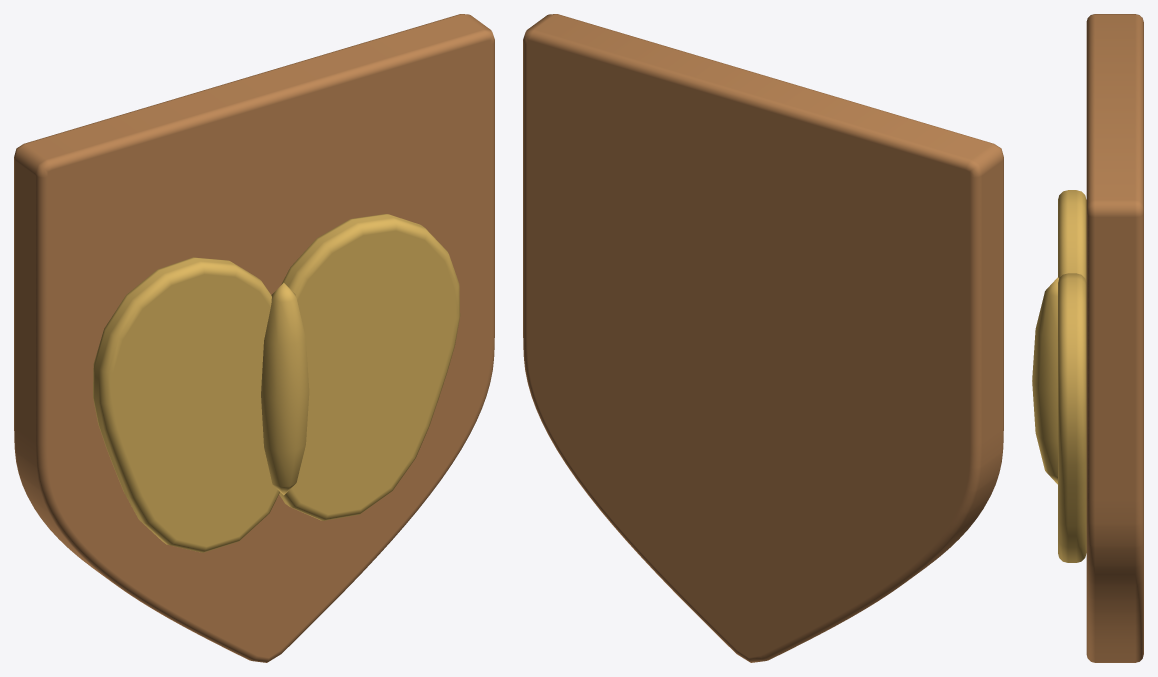
The model's file is butterfly_plaque.glb.
The picture shows the model from 3 angles, left to right: view 1: azimuth 30°, elevation 25°; view 2: azimuth 150°, elevation 25°; view 3: azimuth 270°, elevation 25°; orthographic projection. The views are drawn at different scales.
Parts seen in each view (by area): view 1: butterfly_plaque_mesh; view 2: butterfly_plaque_mesh; view 3: butterfly_plaque_mesh.
Part boxes in pixels (<box>): butterfly_plaque_mesh: <box>14,14,494,662</box>; butterfly_plaque_mesh: <box>523,14,1003,662</box>; butterfly_plaque_mesh: <box>1032,14,1143,662</box>.
Size of the model in its own units: 0.36 by 0.4355 by 0.078.
